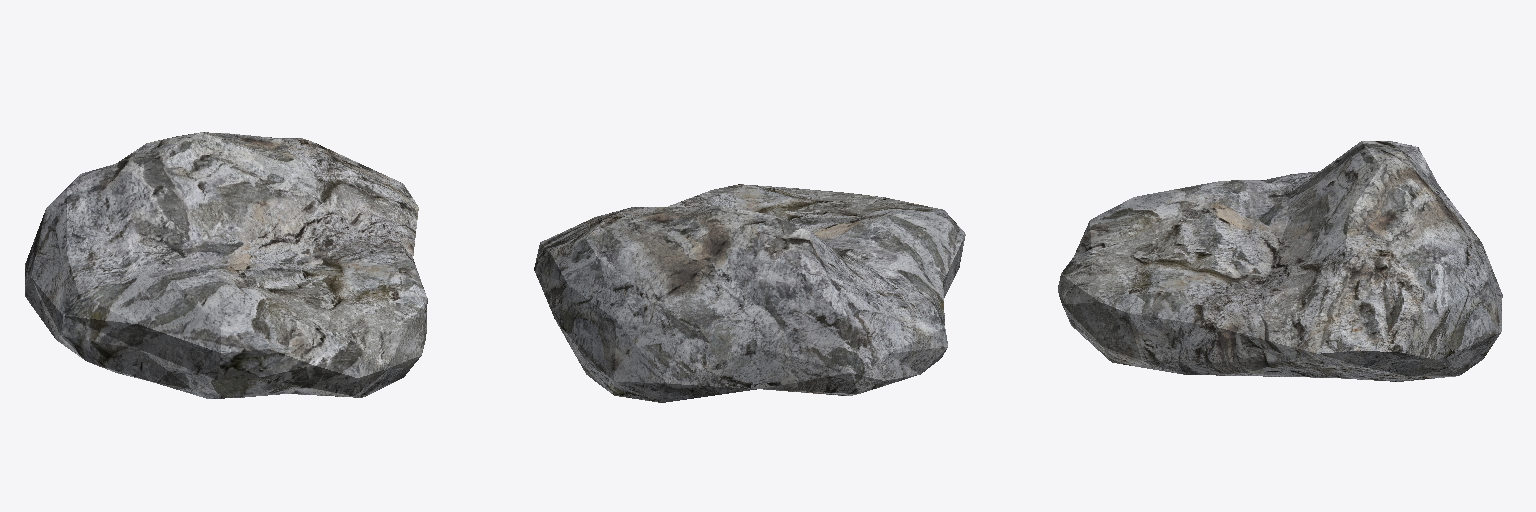
3 views of the same model, side by side, from view 1: azimuth 30°, elevation 25°; view 2: azimuth 150°, elevation 25°; view 3: azimuth 270°, elevation 25° (orthographic).
Parts seen in each view (by area): view 1: rockflat96; view 2: rockflat96; view 3: rockflat96.
Boxes of the visible parts, <box> form: rockflat96: <box>25,132,427,398</box>; rockflat96: <box>534,184,965,402</box>; rockflat96: <box>1058,141,1502,381</box>.
Size of the model in its own units: 3.09 by 1.38 by 3.17.
Materials: 1 (1 with a texture image).